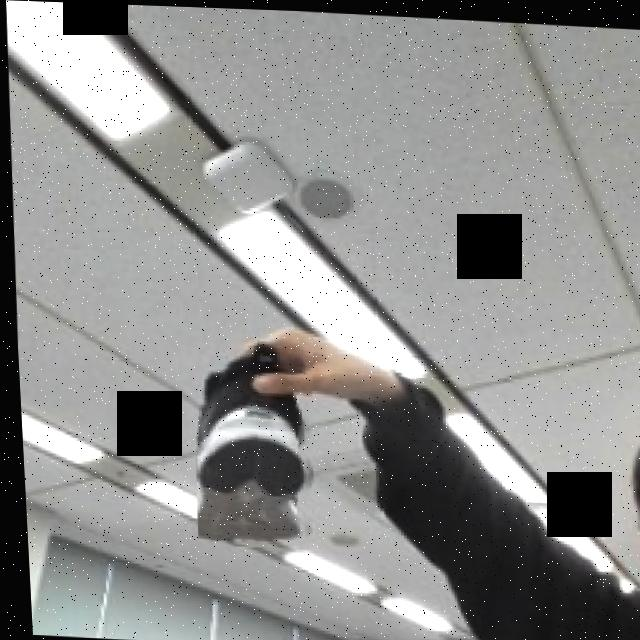shoe: (184, 327, 318, 548)
